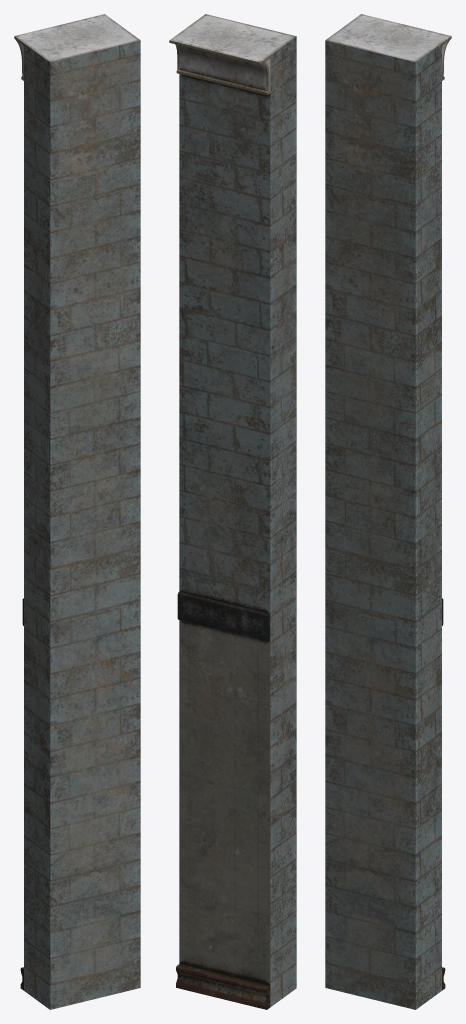
The model's file is wallsmall.glb.
3 renders of one model, left to right at view 1: azimuth 30°, elevation 25°; view 2: azimuth 150°, elevation 25°; view 3: azimuth 330°, elevation 25°, orthographic.
Parts seen in each view (by area): view 1: 01_01_0; view 2: 01_01_0; view 3: 01_01_0.
Part boxes in pixels (left/top/right/bottom): 01_01_0: left=14, top=14, right=140, bottom=1009; 01_01_0: left=169, top=14, right=296, bottom=1009; 01_01_0: left=325, top=14, right=451, bottom=1009.
Size of the model in its own units: 0.4 by 4 by 0.275.
Materials: 1 (1 with a texture image).
